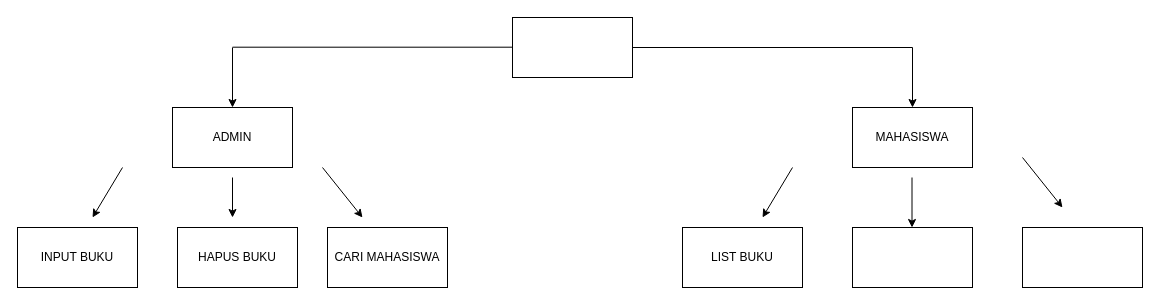
Some shapes in this 1160 by 305 pixel diagram are drawn without their labels. Each missing label, with the centre of its shape:
LOGIN: (x=572, y=47)
PEMINJAMAN BUKU: (x=912, y=257)
PENGEMBALLIAN BUKU: (x=1082, y=257)
